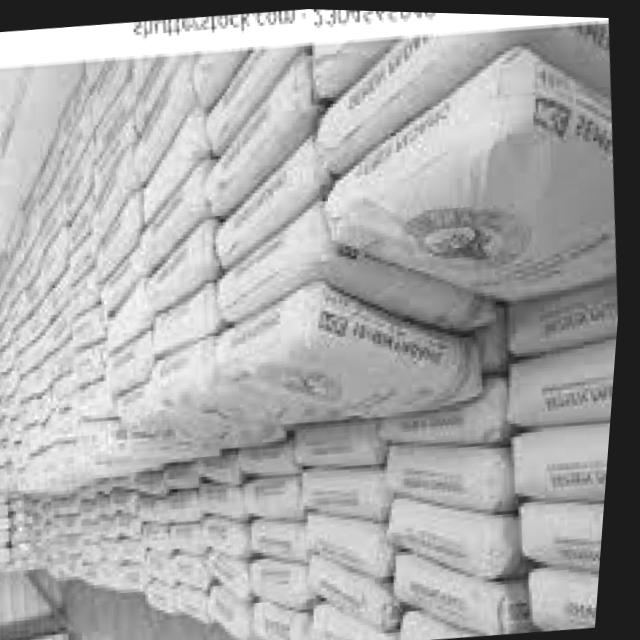cement_bag: (333, 46, 619, 304), (315, 12, 612, 156), (224, 273, 491, 422), (217, 195, 493, 336), (156, 337, 355, 435), (208, 57, 314, 214), (219, 140, 335, 254), (130, 382, 286, 450), (402, 552, 525, 631), (208, 28, 301, 132), (400, 487, 506, 574), (511, 280, 622, 353), (389, 441, 501, 510), (523, 349, 621, 418), (318, 551, 404, 628), (143, 105, 205, 211), (522, 423, 616, 491), (313, 503, 395, 576), (149, 215, 217, 298), (526, 498, 612, 561), (140, 68, 196, 157), (308, 458, 395, 514), (161, 276, 225, 348), (101, 192, 150, 273), (546, 564, 607, 627), (300, 417, 381, 462), (110, 330, 159, 391), (115, 272, 156, 338), (327, 604, 397, 640), (216, 584, 256, 640), (245, 438, 303, 475), (253, 472, 304, 512), (263, 559, 310, 602), (263, 600, 313, 640), (216, 548, 256, 594), (264, 518, 312, 556), (211, 515, 256, 555), (206, 480, 255, 516), (75, 340, 115, 379), (182, 586, 219, 625), (76, 305, 108, 346), (153, 547, 183, 585), (207, 453, 245, 483), (78, 382, 116, 412), (171, 456, 204, 488), (168, 492, 208, 518), (183, 553, 213, 587), (179, 523, 208, 553), (150, 518, 176, 551)
